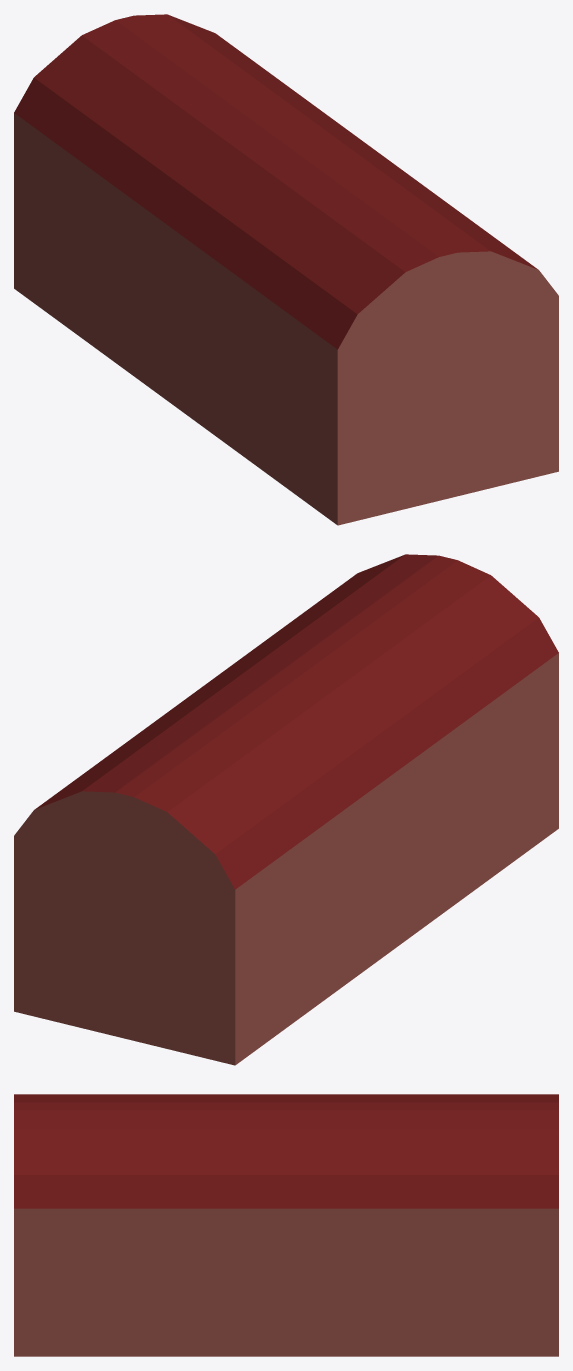
File: ProductionBuilding.fbx
3 views of the same model, one above another, from view 1: azimuth 30°, elevation 25°; view 2: azimuth 150°, elevation 25°; view 3: azimuth 270°, elevation 25° (orthographic). The views are drawn at different scales.
Visible parts, largest first — view 1: Cube; view 2: Cube; view 3: Cube.
Boxes of the visible parts, <box> form: Cube: <box>14,14,558,525</box>; Cube: <box>14,554,558,1065</box>; Cube: <box>14,1094,558,1356</box>.
Bounding box in the file's own units: 1414 × 1489 × 3585.
